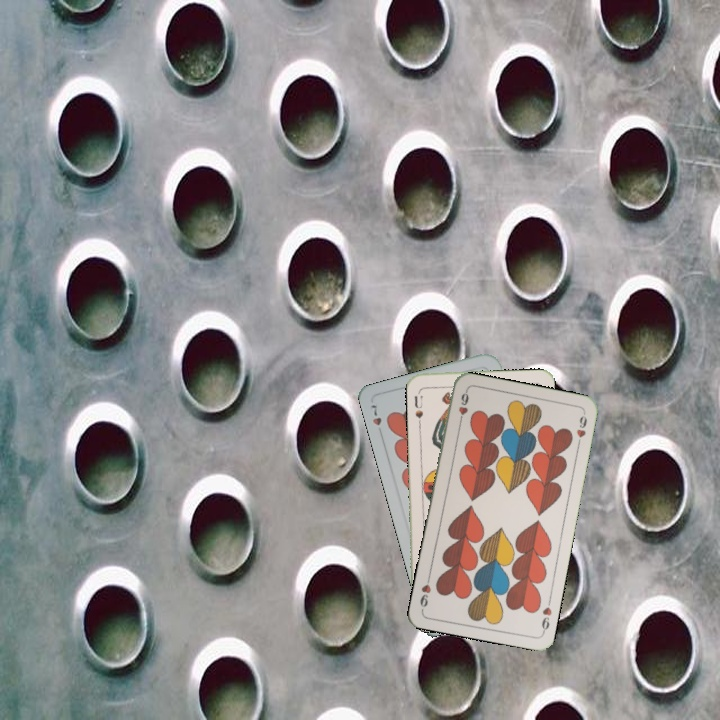H7: (366, 400, 385, 439)
H9: (454, 387, 471, 427), (537, 595, 554, 635)
SU: (410, 392, 425, 421)
